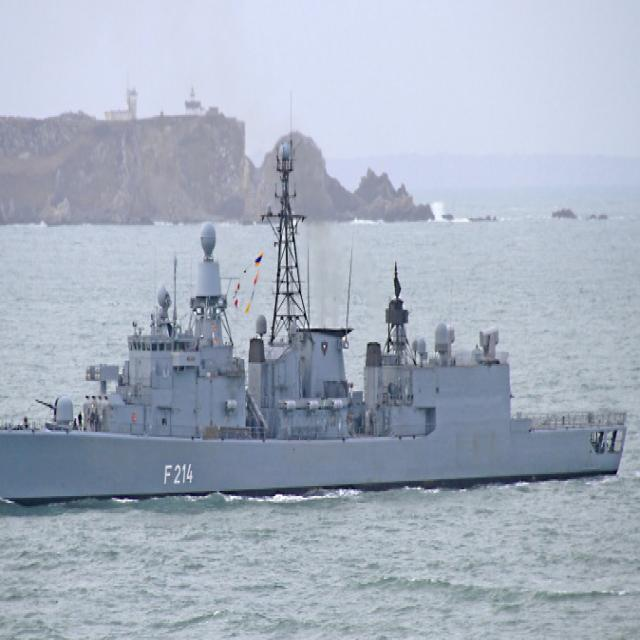Fragata: (1, 136, 630, 521)
